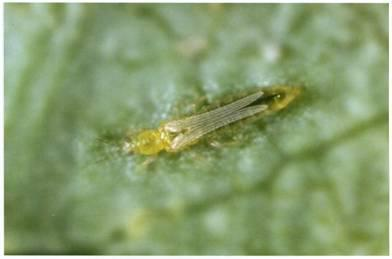tiny_pests: (77, 64, 325, 191)
